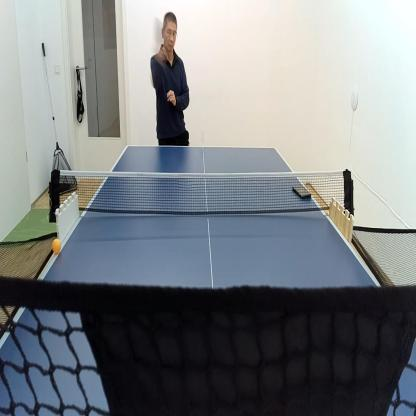Ball: (52, 236, 63, 256), (199, 128, 206, 144)
